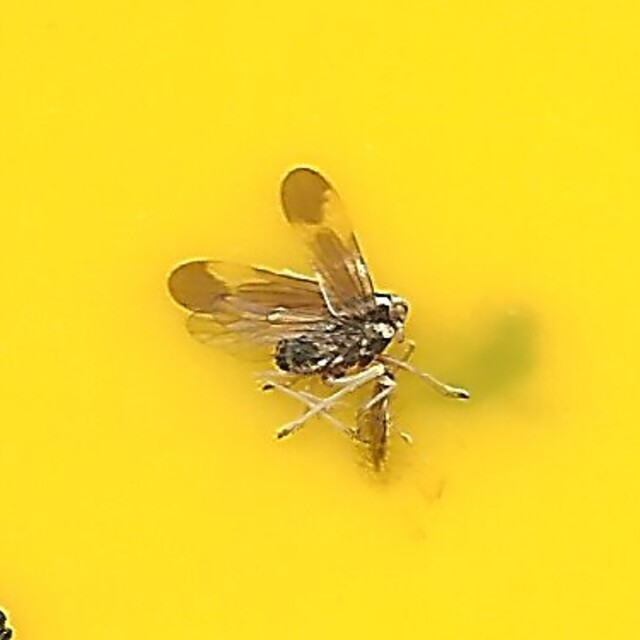Hemiptera: (171, 163, 469, 477)
